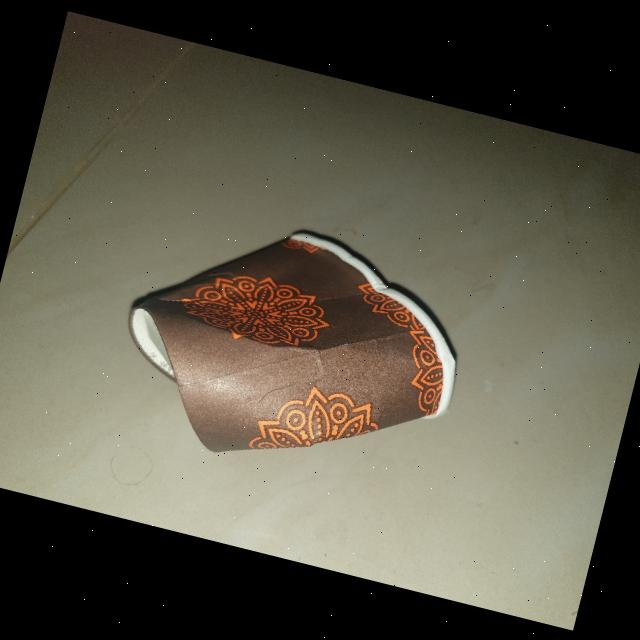trash: (95, 184, 495, 518)
